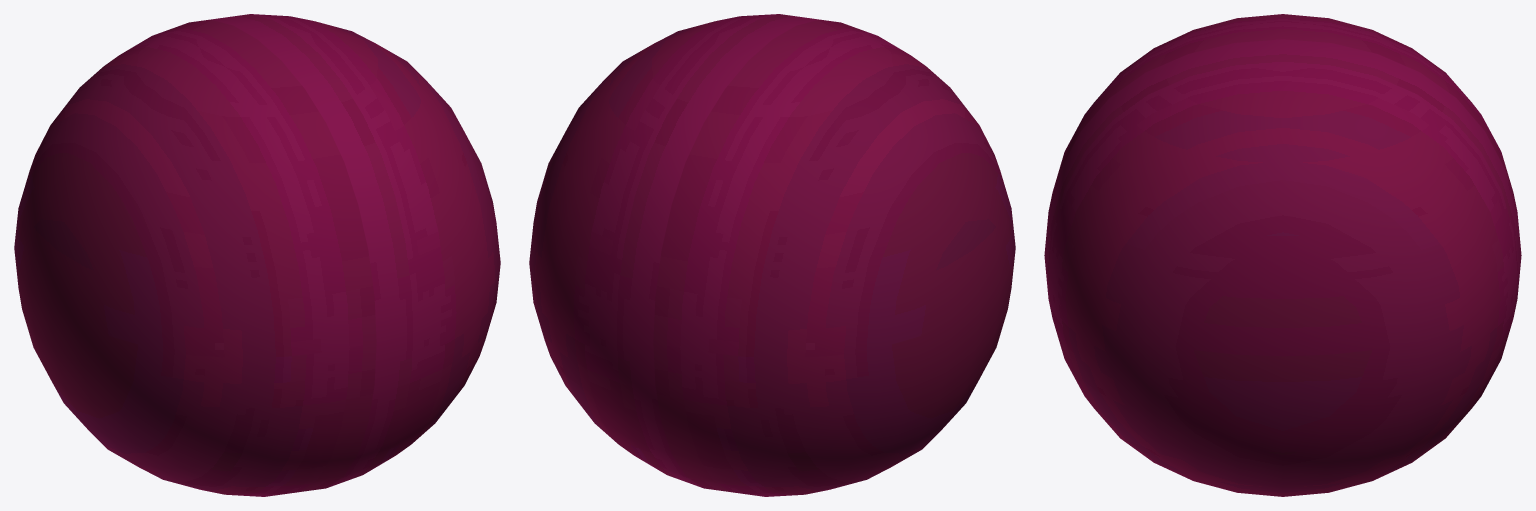
The model's file is Amy_ball.obj.
3 renders of one model, left to right at view 1: azimuth 30°, elevation 25°; view 2: azimuth 150°, elevation 25°; view 3: azimuth 270°, elevation 25°, orthographic.
Parts seen in each view (by area): view 1: ball; view 2: ball; view 3: ball.
Part boxes in pixels (x1=…): ball: x1=14, y1=14, x2=500, y2=496; ball: x1=529, y1=14, x2=1015, y2=496; ball: x1=1044, y1=14, x2=1521, y2=496.
Size of the model in its own units: 25.5 by 25.5 by 25.5.
Materials: 1 (1 with a texture image).
